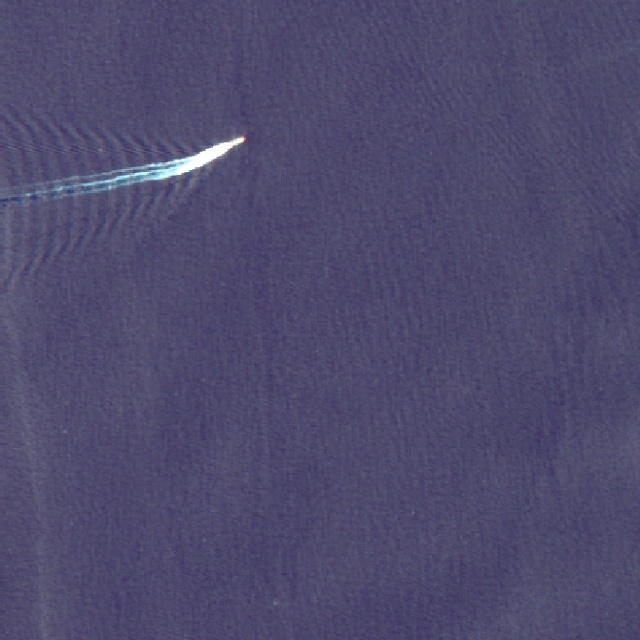wake: (51, 104, 265, 240)
